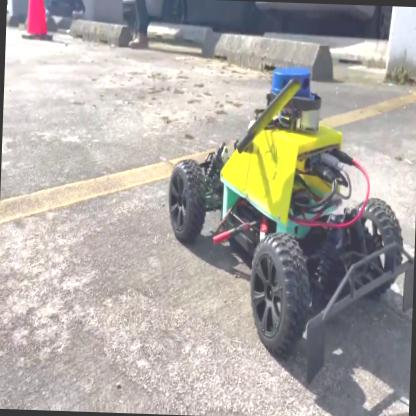mushr_car: (159, 55, 415, 381)
